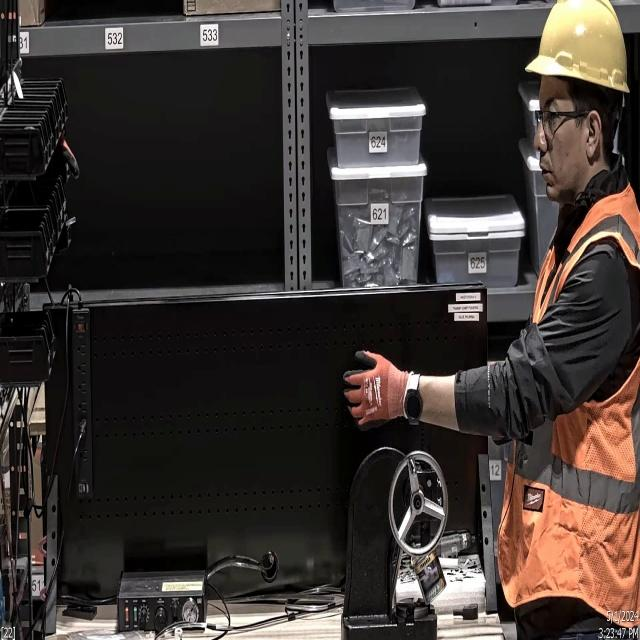gloves: (344, 351, 409, 432)
